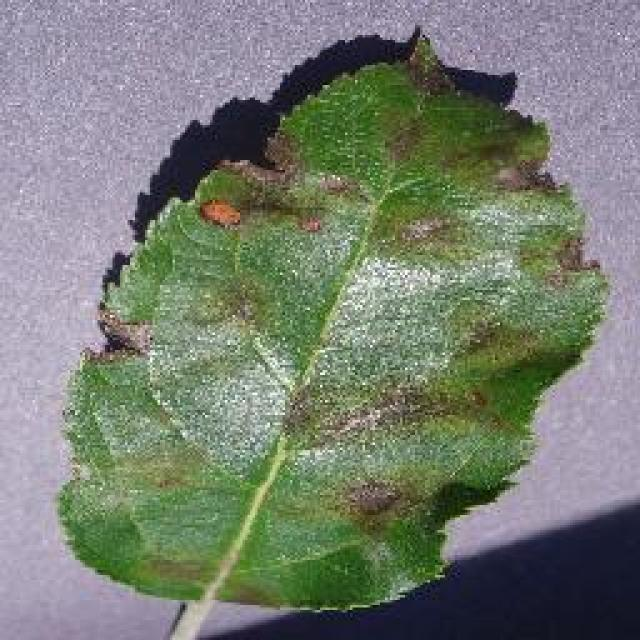apple scab disease: (55, 22, 610, 612)
